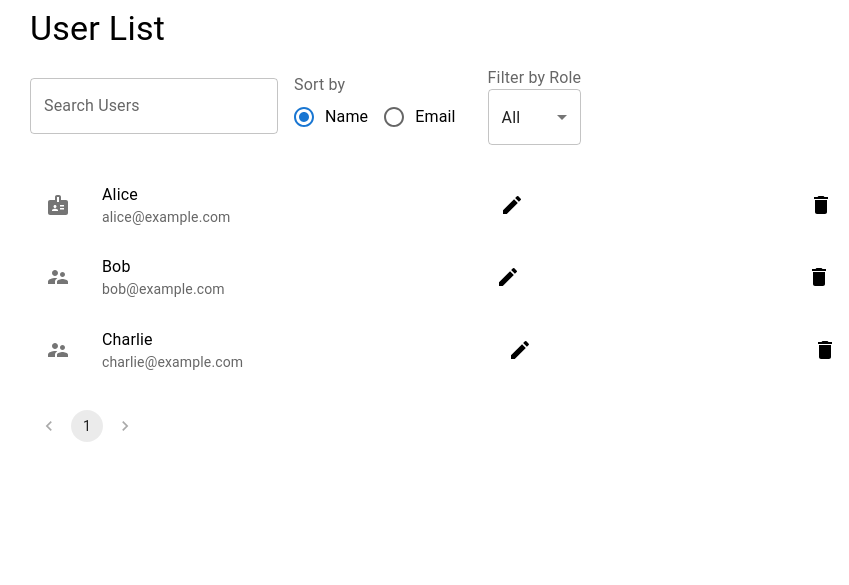
UserEmployeeListMittel › removes a user from the list
This screenshot has width=849, height=585.
Step 1. Click the button named "delete-Alice" → click(821, 206), box [809,194,833,218]
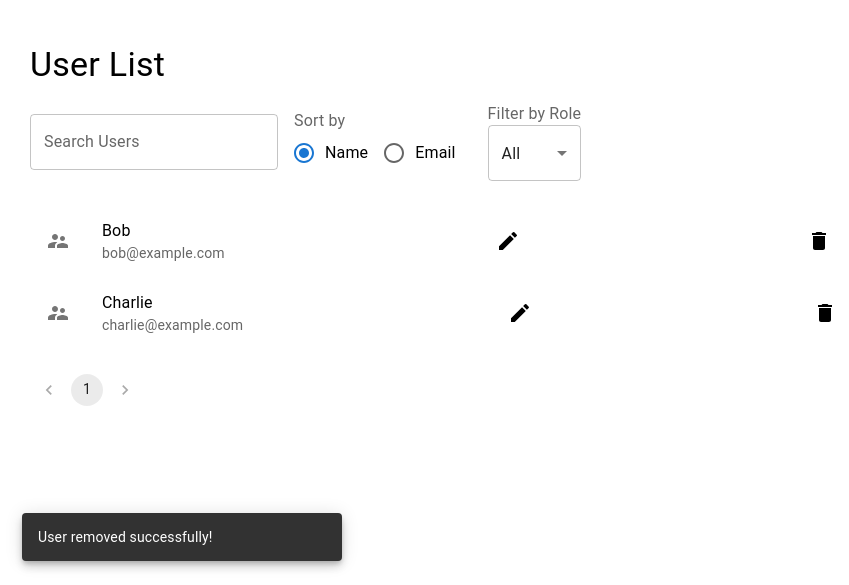
Expected: the text labelled "Alice" is gone
Expected: the text "User removed successfully!" is shown, [38,529,213,545]
